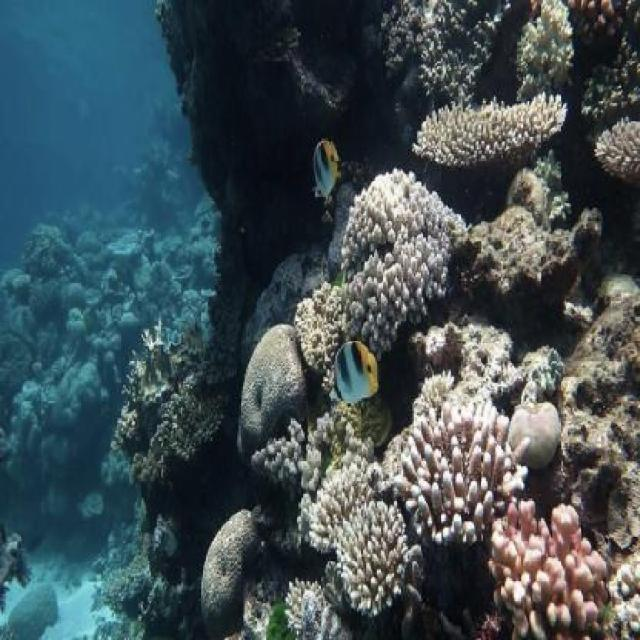ButterflyFish: (333, 338, 379, 408), (313, 139, 340, 199)
